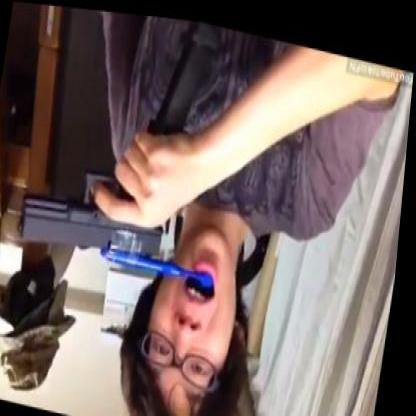pistol: (15, 88, 188, 274)
